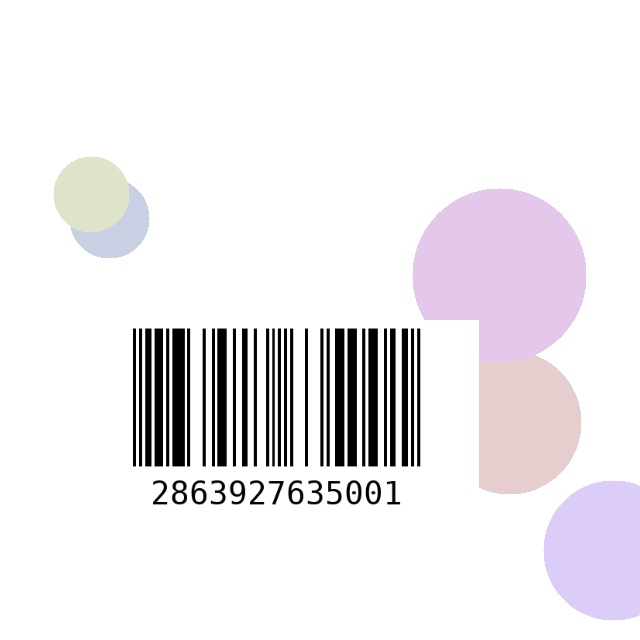barcode: (74, 320, 479, 537)
